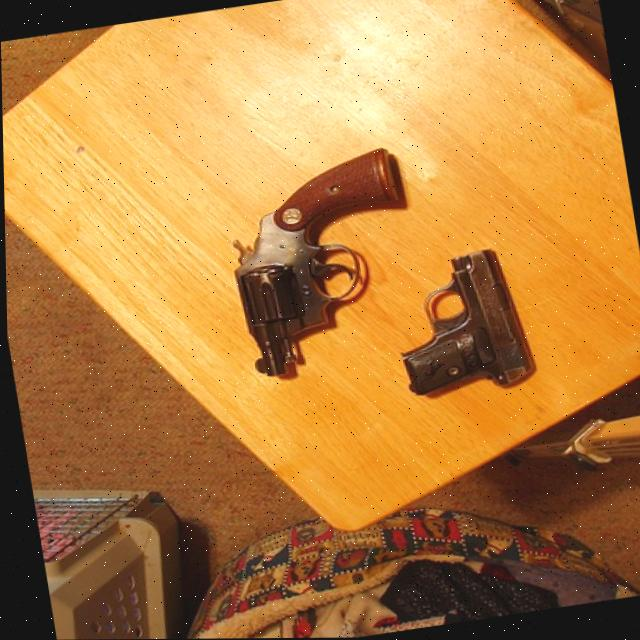pistol: (214, 147, 431, 382), (383, 244, 538, 404)
